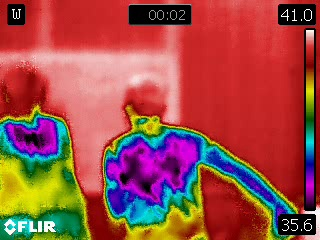human: (99, 78, 300, 240), (1, 56, 93, 240)
